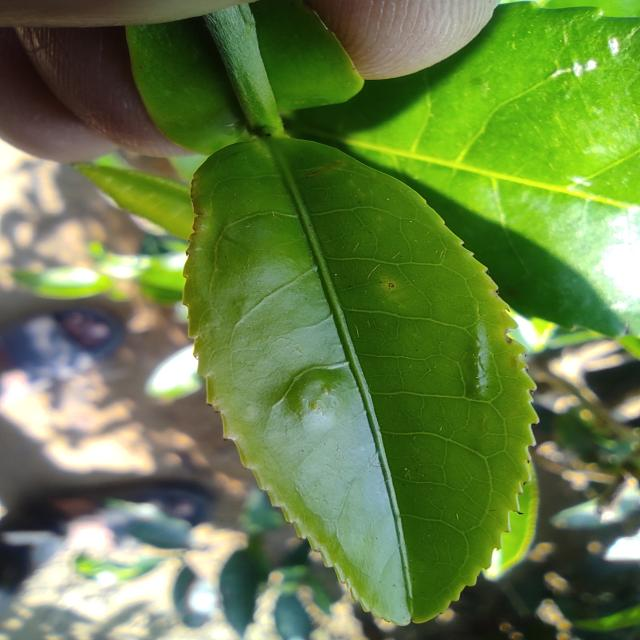Category C 4-7 days: (171, 109, 551, 630)
